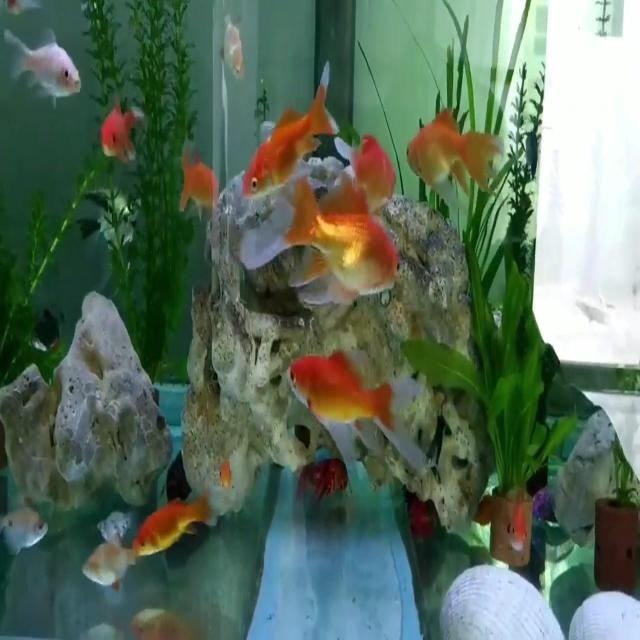GoldFish: (280, 339, 436, 507), (278, 172, 410, 314), (242, 55, 346, 212), (402, 95, 510, 208), (0, 21, 88, 113), (122, 491, 224, 569), (172, 141, 223, 230), (97, 90, 145, 176)
